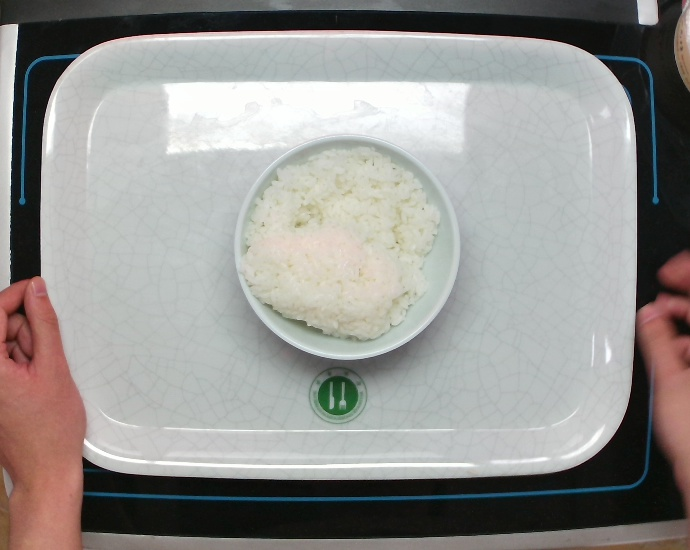JYsf-Fan_Wan: (231, 130, 465, 362)
